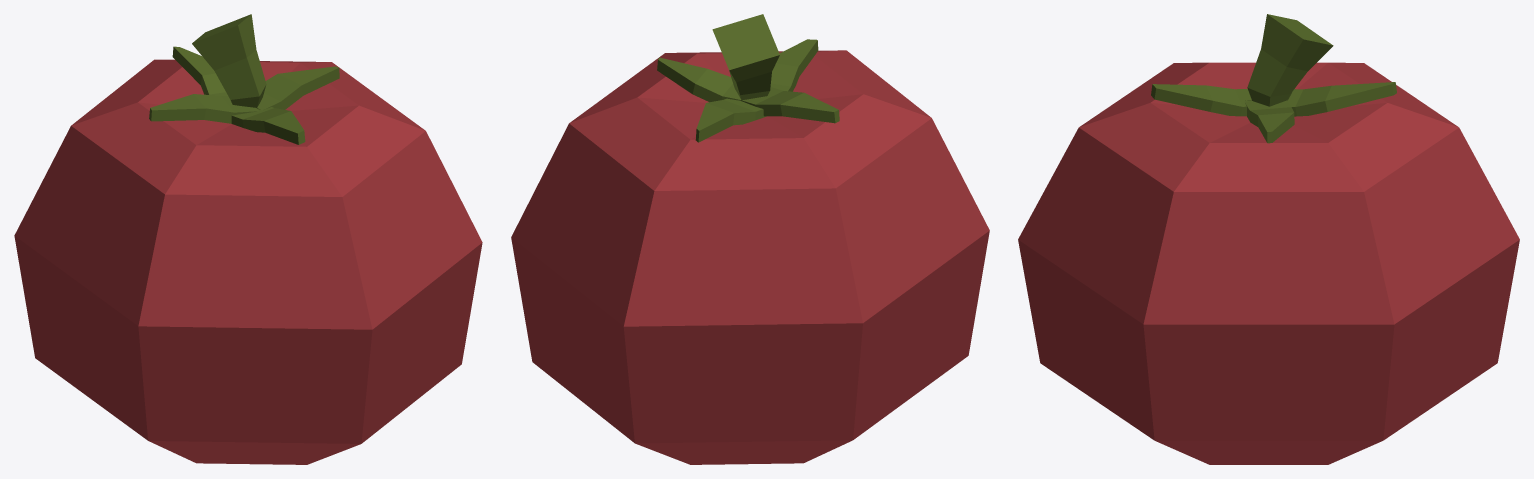
Rendered from Tomato.fbx.
3 renders of one model, left to right at view 1: azimuth 30°, elevation 25°; view 2: azimuth 150°, elevation 25°; view 3: azimuth 270°, elevation 25°, orthographic. The views are drawn at different scales.
Visible parts, largest first — view 1: Sphere.003; view 2: Sphere.003; view 3: Sphere.003.
Boxes of the visible parts, <box> form: Sphere.003: <box>14,14,482,464</box>; Sphere.003: <box>511,14,989,464</box>; Sphere.003: <box>1018,14,1519,464</box>.
Bounding box in the file's own units: 162 × 183 × 202.
